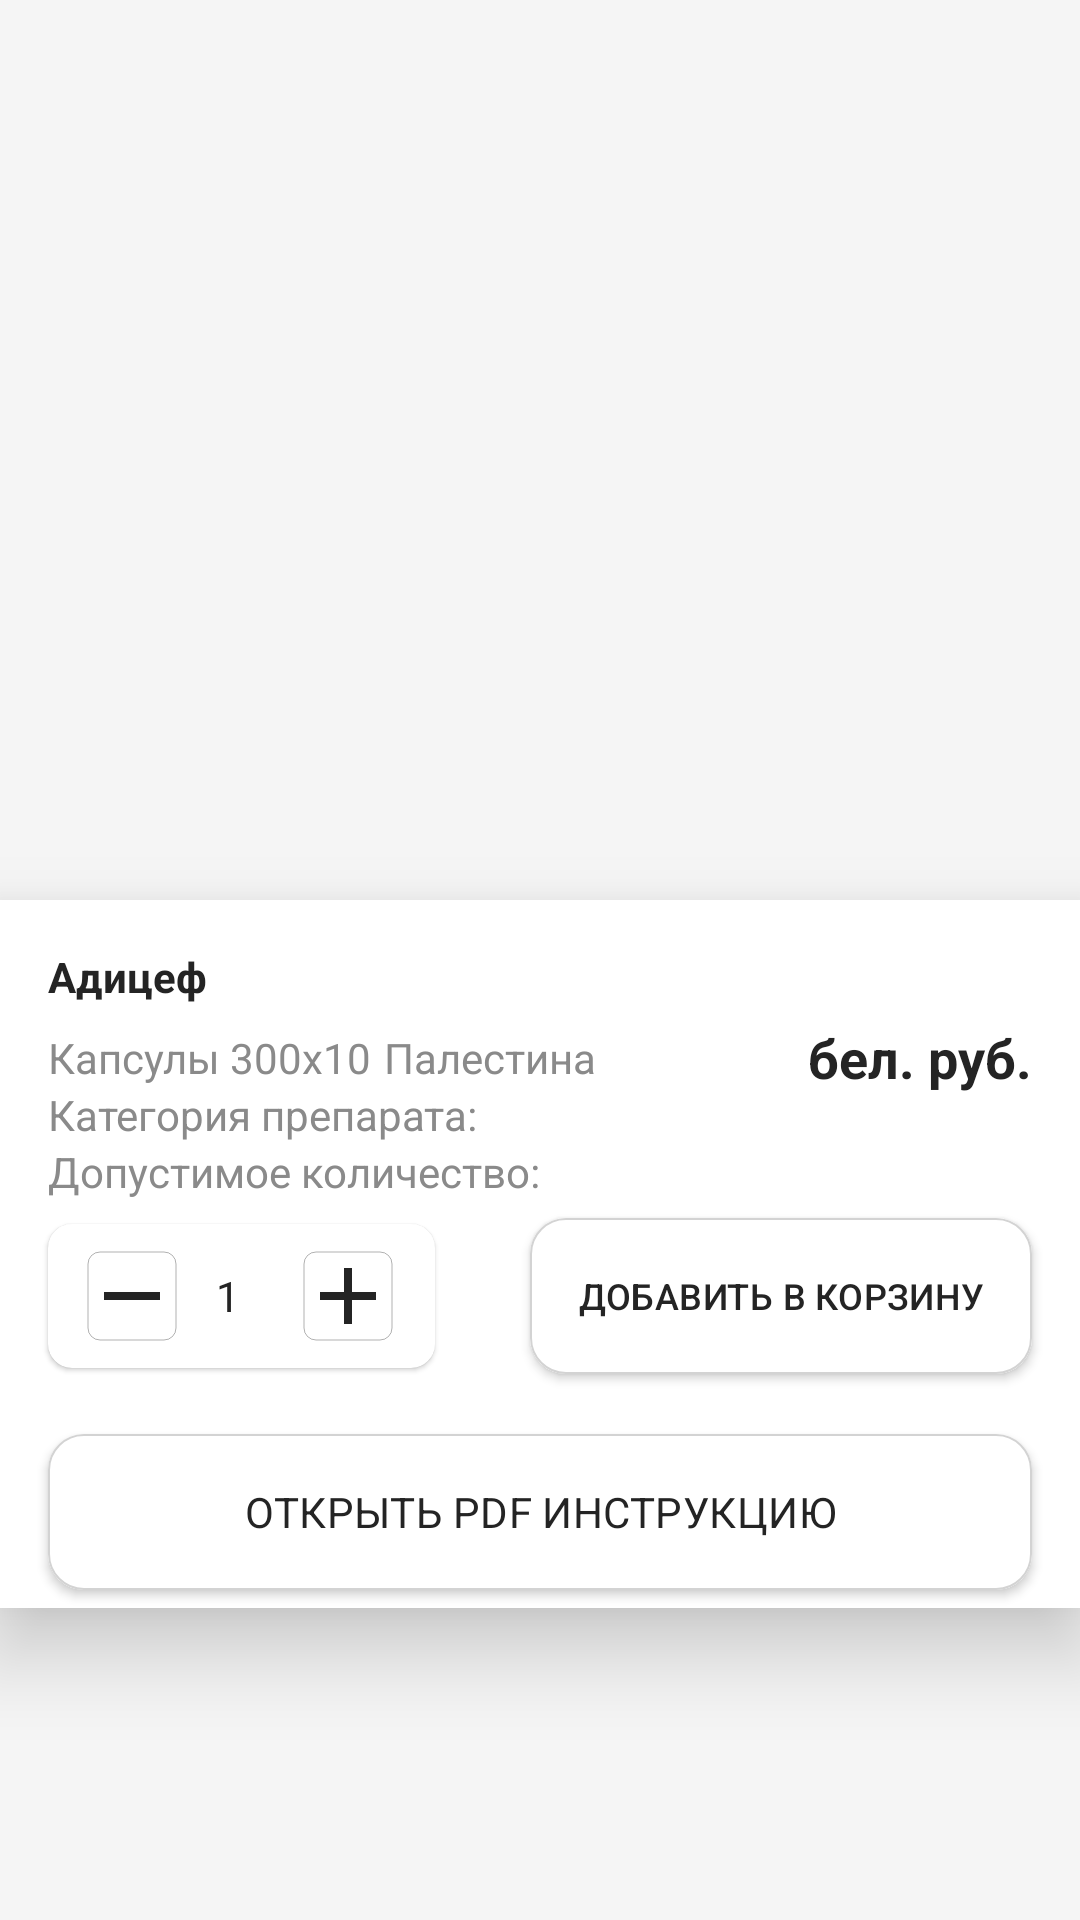

Icon bounding boxes for this 1080px x 1920px phone screenshot, format [left=x1, top=y1, right=x2, bottom=y2]:
minus: [left=87, top=1251, right=177, bottom=1341]
plus: [left=303, top=1251, right=393, bottom=1341]
